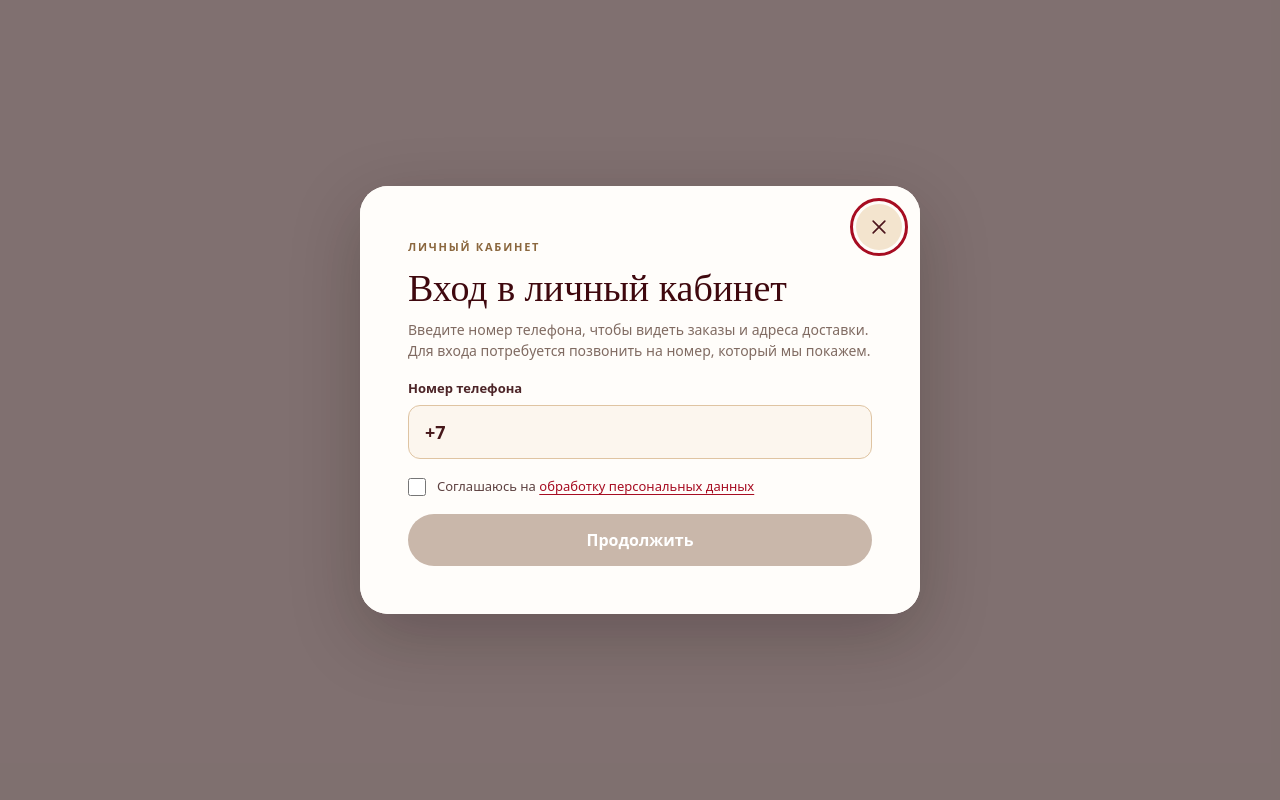
Test case: expiry stops polling and never starts a new registration automatically
The image size is (1280, 800).
Click the checkbox at {"x": 417, "y": 487}, box [408,478,426,496]
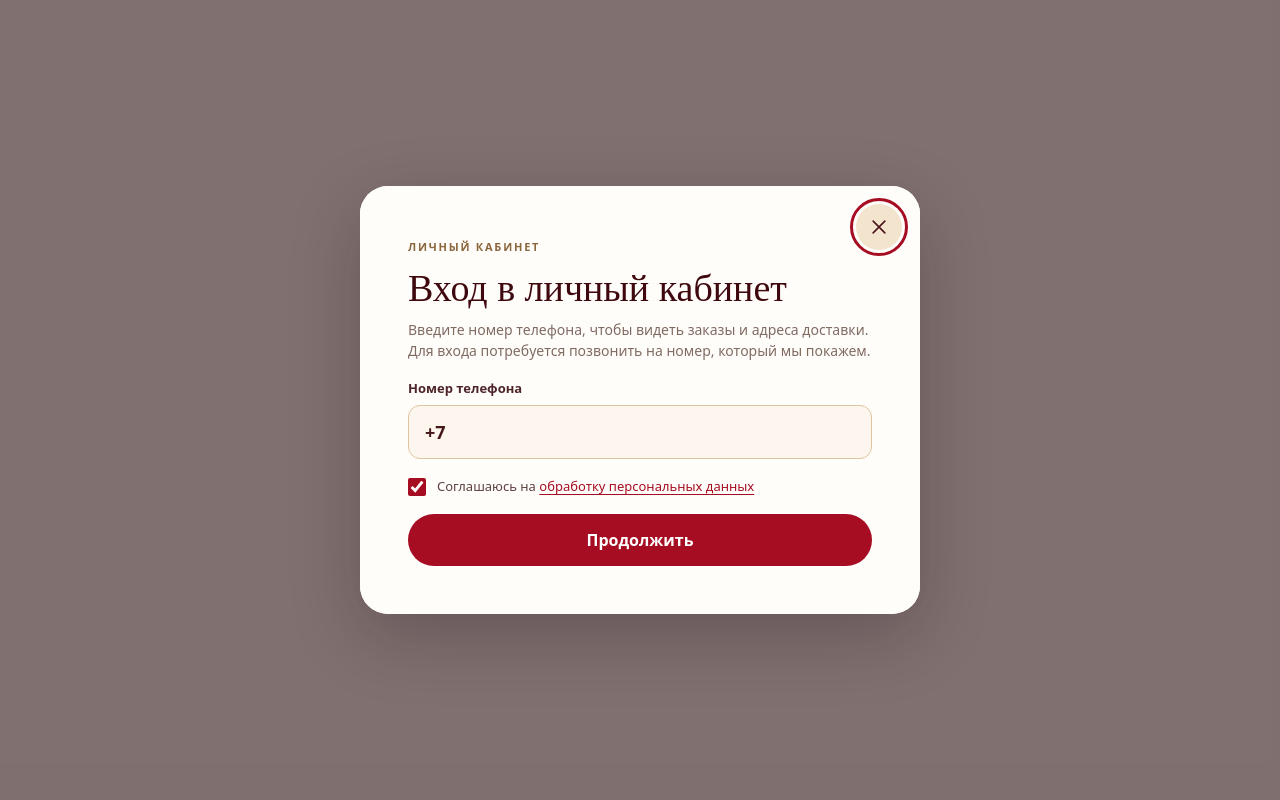
Replace the text in the field labelled "Номер телефона" with "9991234567" at {"x": 640, "y": 432}, box [408,405,872,459]
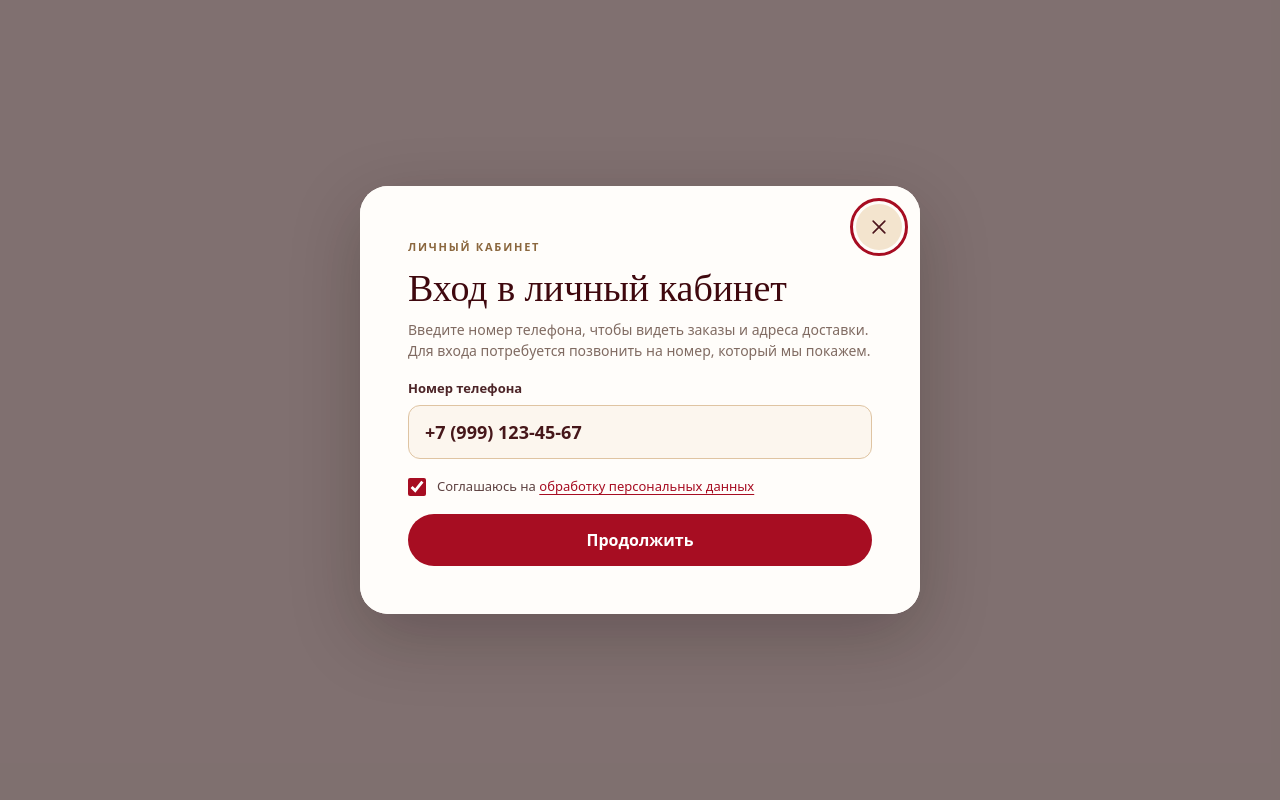
Click the button "Продолжить" at {"x": 640, "y": 540}, box [408,514,872,566]
Wait 360000 ms
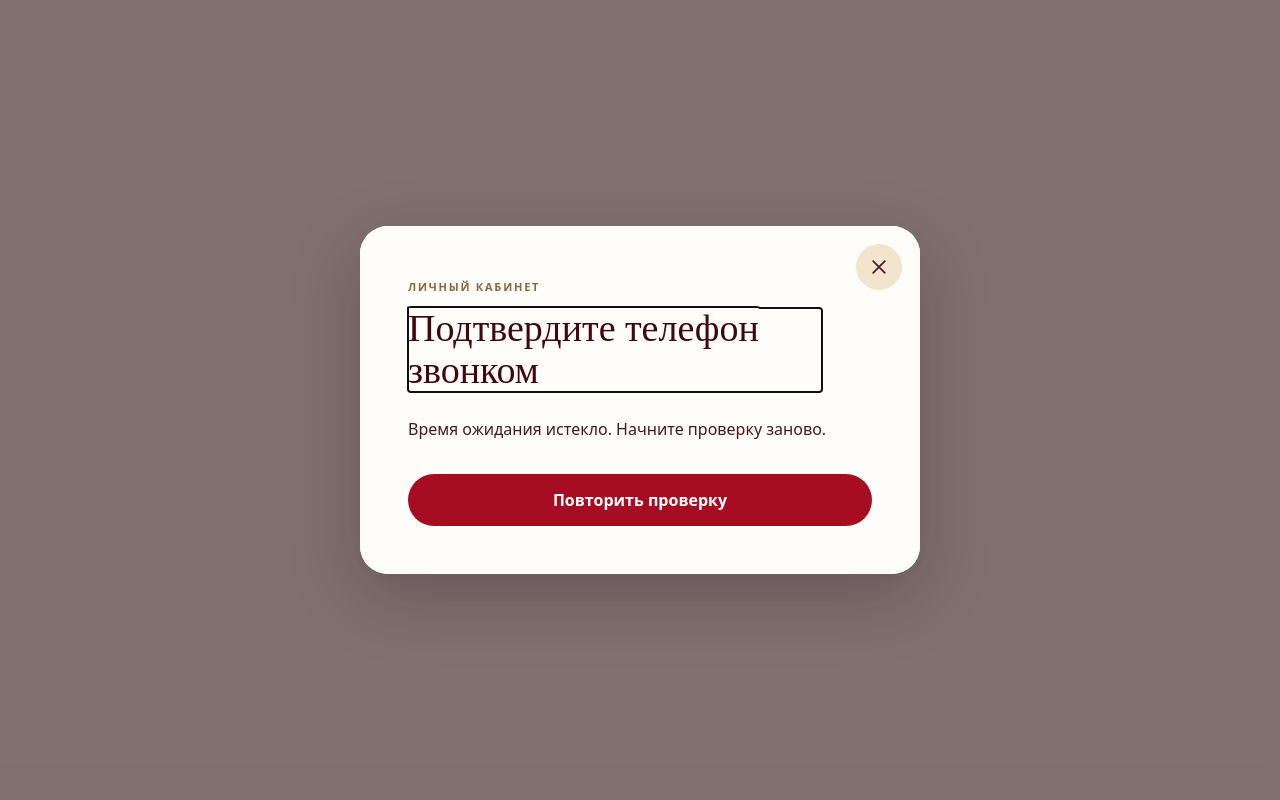
Now the text "Время ожидания истекло. Начните проверку заново." is shown, box [408,418,872,440]
Now the field is gone
